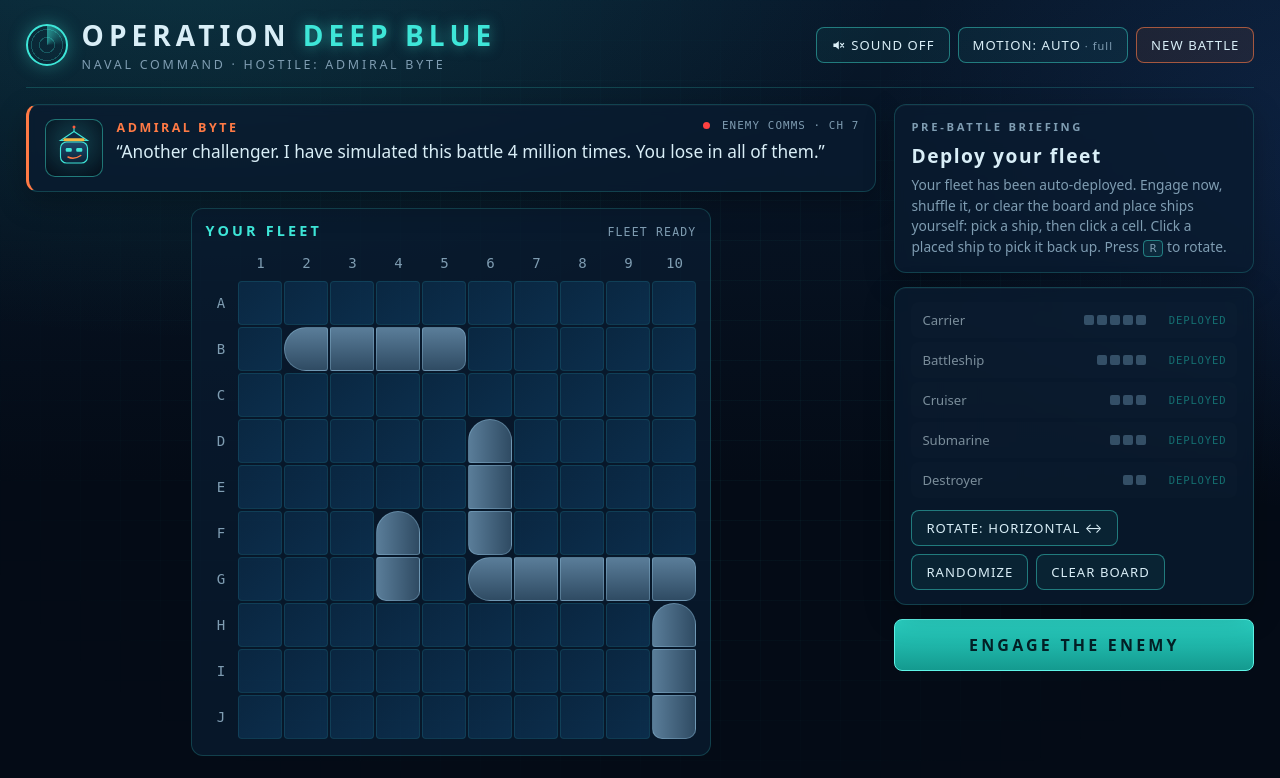
Test: App (integration) › shows a sink announcement and log entry when an enemy ship sinks
The image size is (1280, 778).
Click the button "Engage the enemy" at (1074, 645), box [894, 619, 1254, 671]
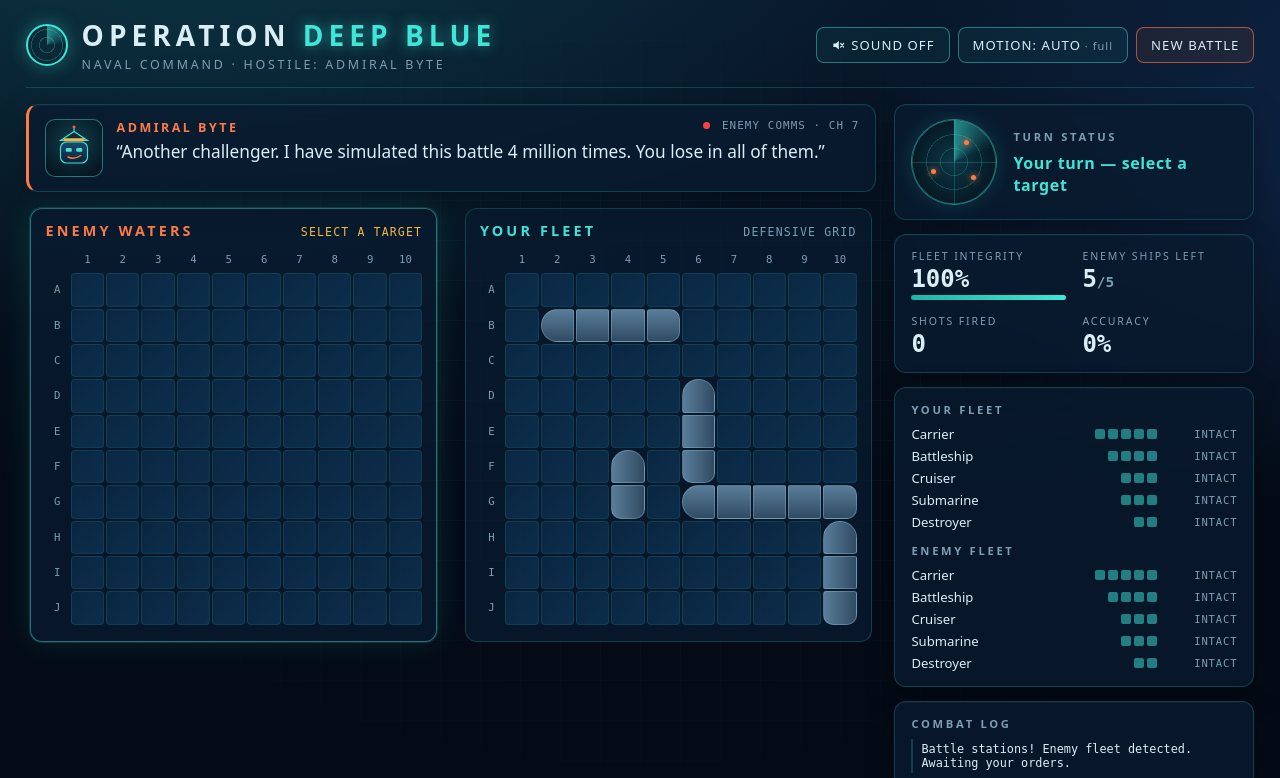
Click the button named "F8, unknown waters" at (335, 467), box [318, 450, 351, 483]
Wait 500 ms
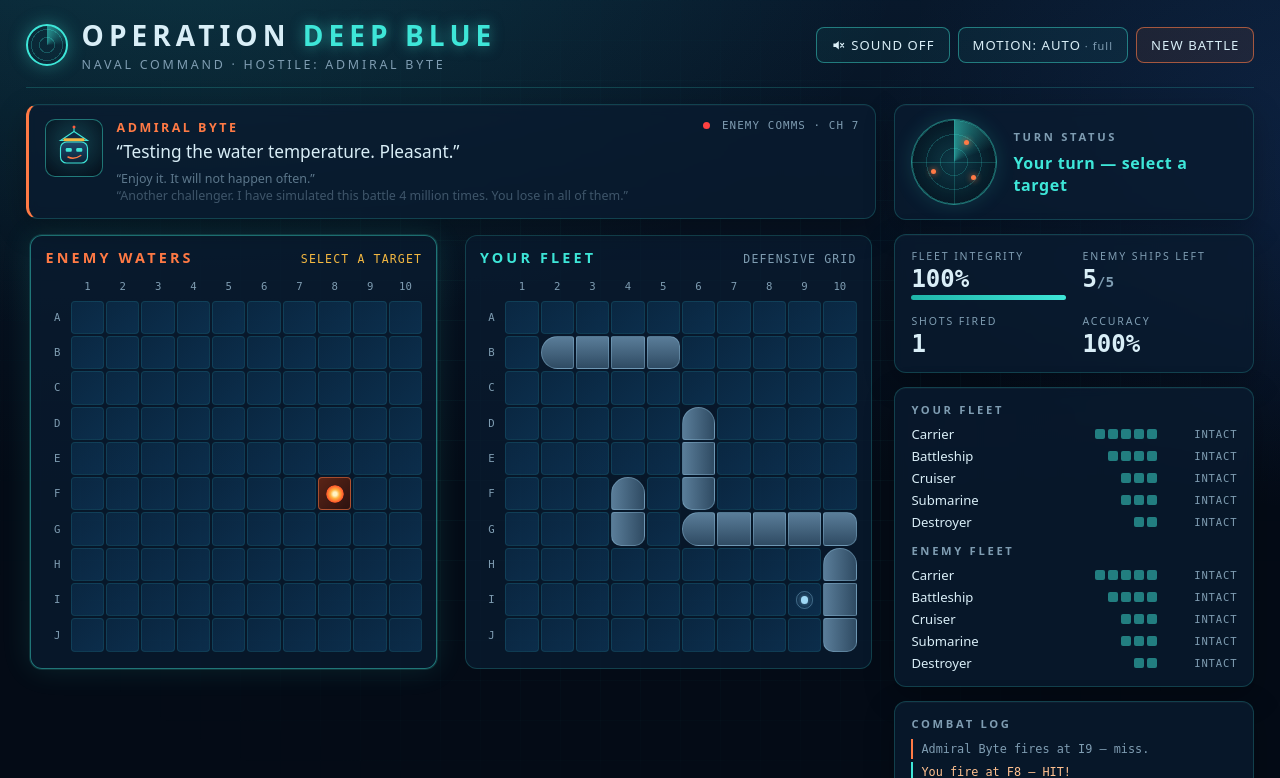
Click the button named "G8, unknown waters" at (335, 529), box [318, 512, 351, 546]
Wait 500 ms
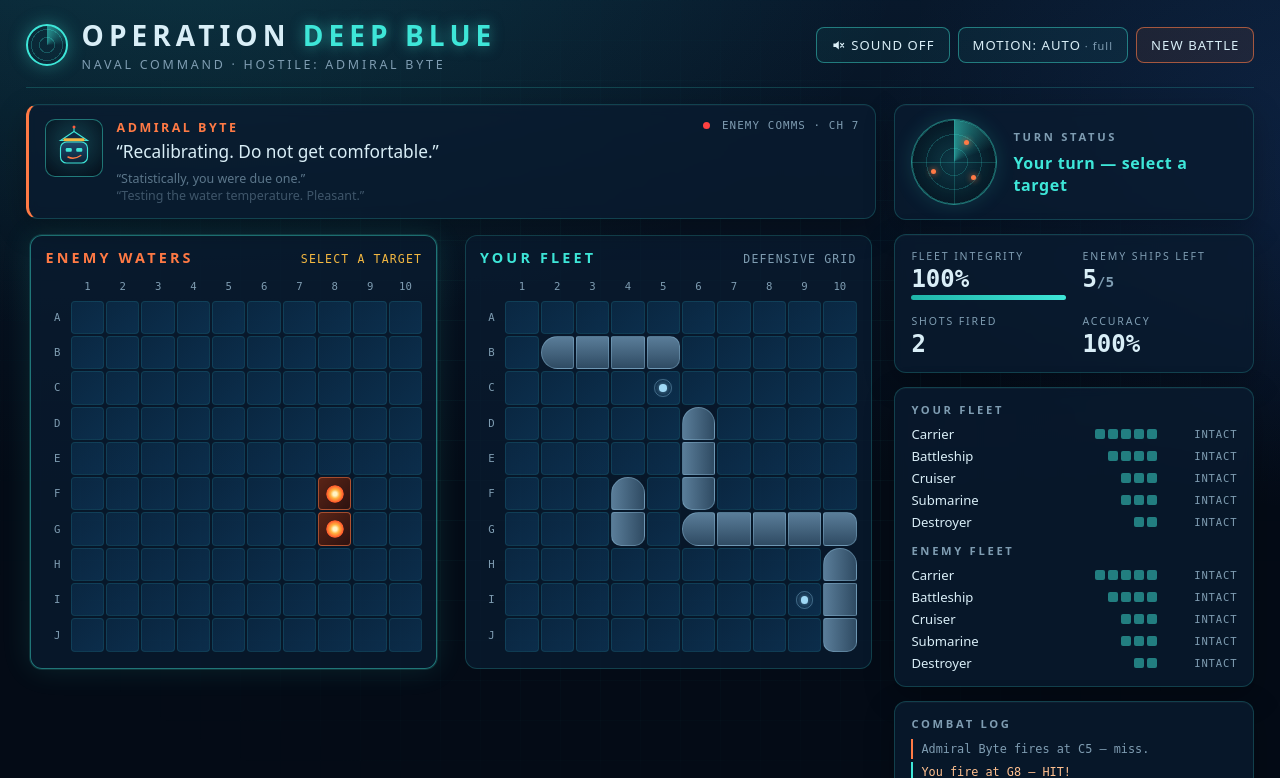
Click the button named "H8, unknown waters" at (335, 564), box [318, 548, 351, 581]
Wait 500 ms
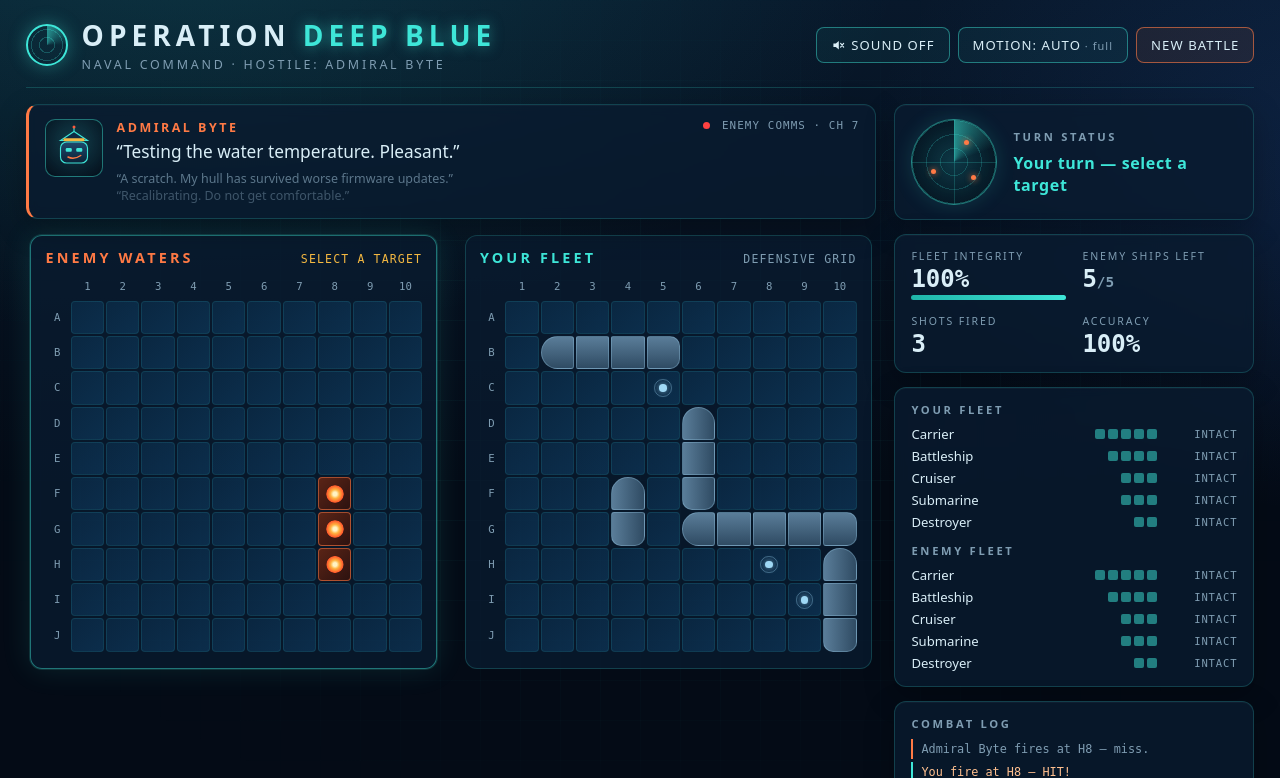
Click the button named "I8, unknown waters" at (335, 600), box [318, 583, 351, 616]
Wait 500 ms
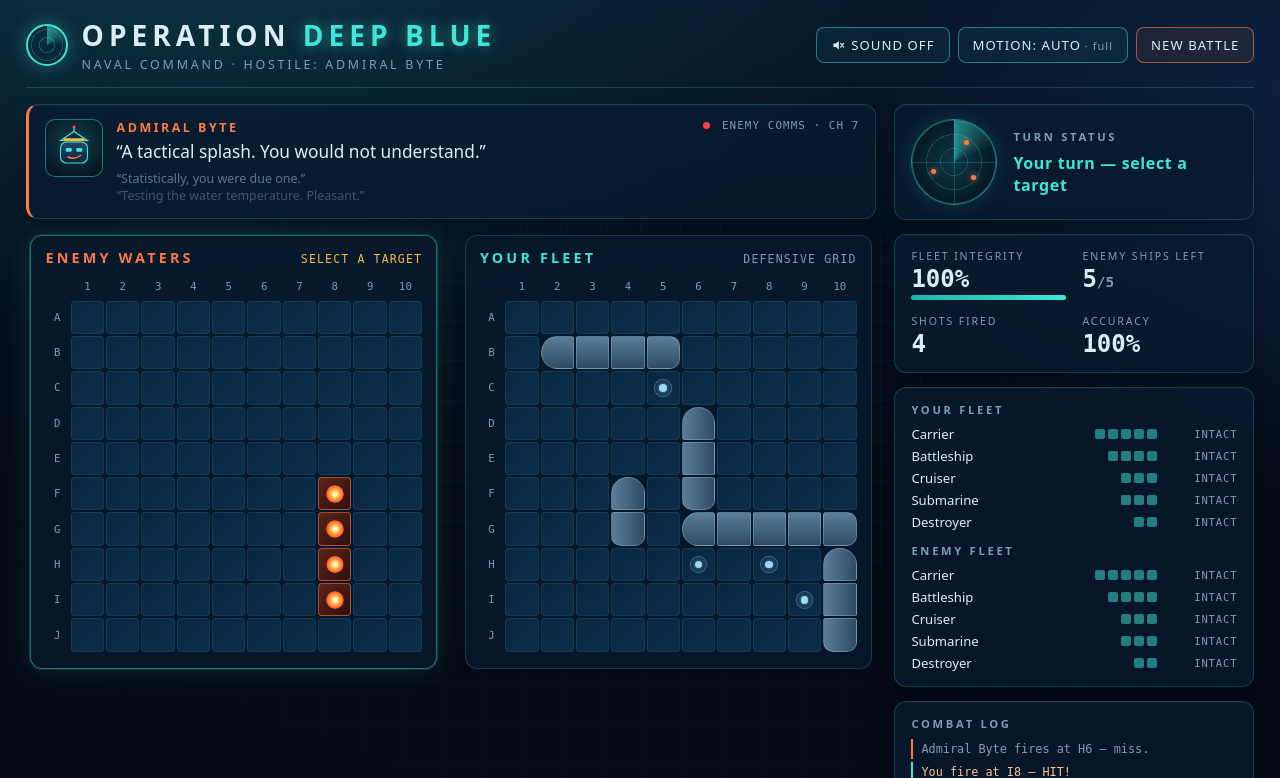
Click the button named "J8, unknown waters" at (335, 635), box [318, 618, 351, 652]
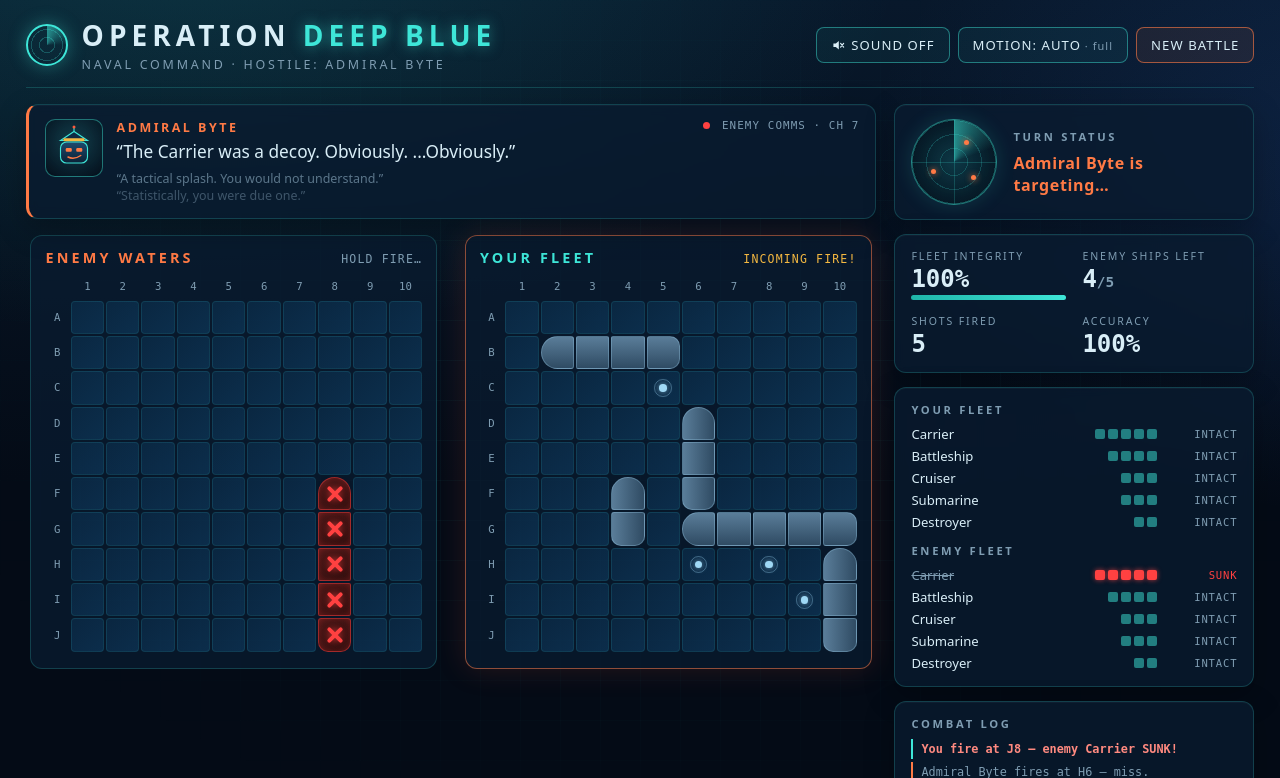
Expected: the number of buttons with class "cell-sinking" is 5, [318, 477, 351, 510]; [318, 512, 351, 546]; [318, 548, 351, 581]; [318, 583, 351, 616]; [318, 618, 351, 652]
Expected: the element with test id "stat-enemy-left" reads "4/5", [1082, 265, 1114, 293]
